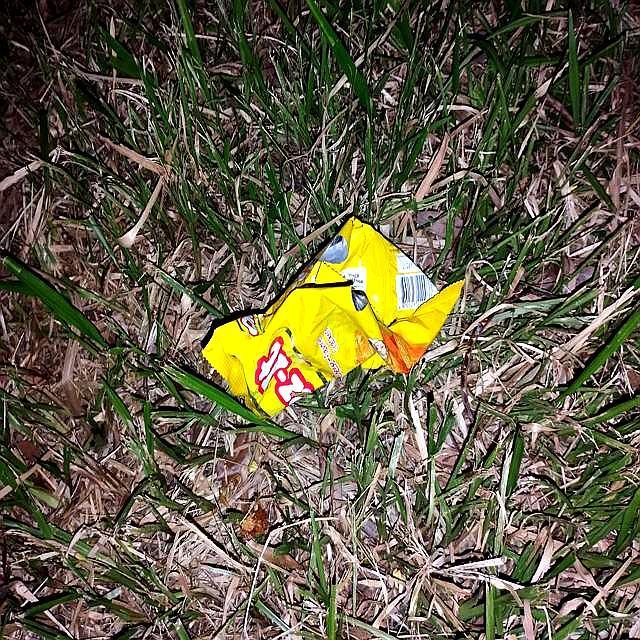Non-biodegradable: (200, 215, 466, 421)
